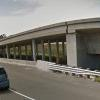Bridge: (6, 18, 100, 58)
